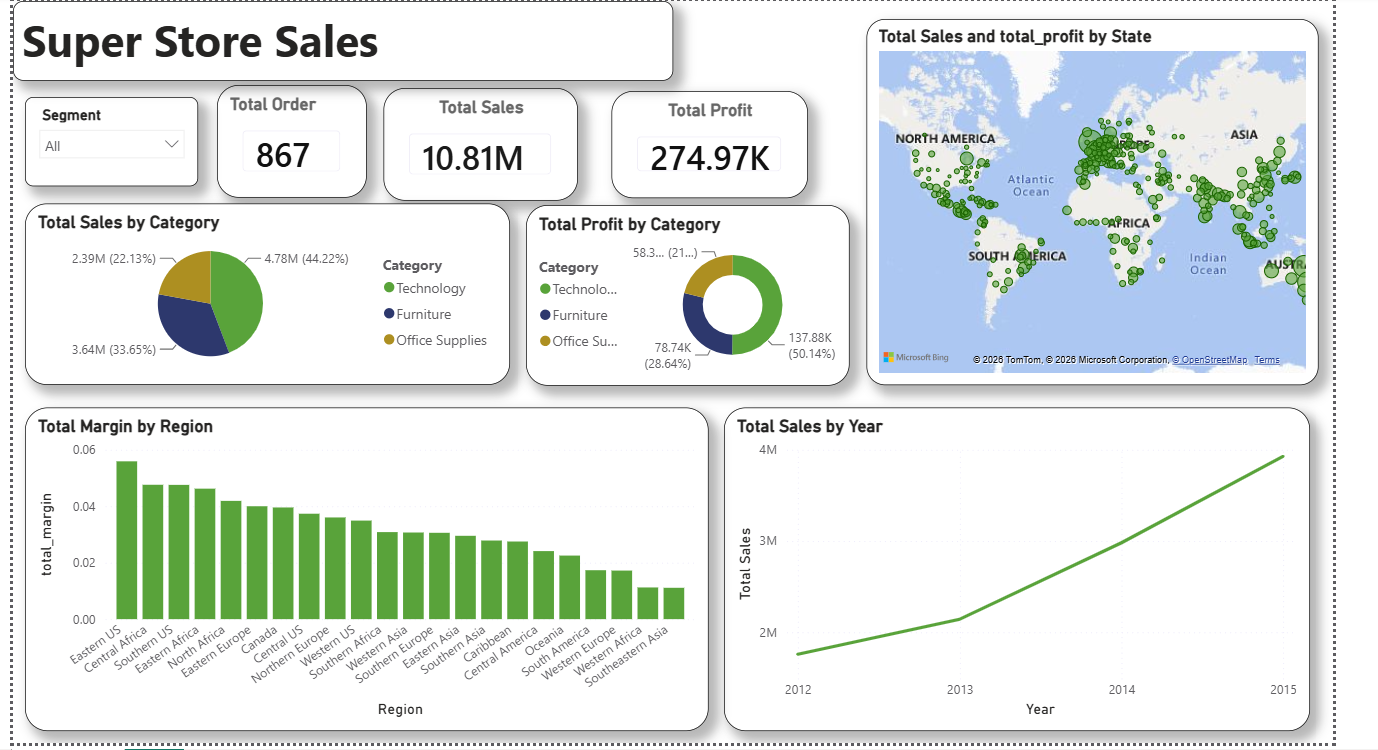

This screenshot's page, from the dashboard's own definition file:
{"tool":"powerbi","page":{"name":"Page 1","canvas":[1280,720],"ordinal":0},"visuals":[{"type":"cardVisual","title":"Total Sales","fields":{"Data":["Superstore_Sales.Total Sales"]},"box":[359.1,85,189,109.6],"z":0},{"type":"cardVisual","title":"Total Order","fields":{"Data":["Superstore_Sales.total_order"]},"box":[198.4,81.3,145.5,109.6],"z":1000},{"type":"cardVisual","title":"Total Profit","fields":{"Data":["Superstore_Sales.total_profit"]},"box":[580.2,86.9,190.9,103.9],"z":2000},{"type":"pieChart","fields":{"Category":["Superstore_Sales.Category"],"Y":["Superstore_Sales.Total Sales"]},"box":[11.3,196.5,470.6,175.7],"z":3000},{"type":"lineChart","fields":{"Category":["Superstore_Sales.Order Date.Variation.Date Hierarchy.Year","Superstore_Sales.Order Date.Variation.Date Hierarchy.Quarter","Superstore_Sales.Order Date.Variation.Date Hierarchy.Month","Superstore_Sales.Order Date.Variation.Date Hierarchy.Day"],"Y":["Superstore_Sales.Total Sales"]},"box":[689.8,395,568.8,313.7],"z":4000},{"type":"map","fields":{"Category":["Superstore_Sales.State"],"Size":["Superstore_Sales.Total Sales"]},"box":[827.7,17,438.4,355.3],"z":5000},{"type":"slicer","fields":{"Values":["Superstore_Sales.Segment"]},"box":[11.3,92.6,168.2,86.9],"z":6000},{"type":"textbox","box":[0,0,640.6,77.5],"z":7000},{"type":"columnChart","title":"Total Margin by Region","fields":{"Category":["Superstore_Sales.Region"],"Y":["Superstore_Sales.total_margin"]},"box":[11.3,395,663.3,313.7],"z":8000},{"type":"donutChart","title":"Total Profit by Category","fields":{"Y":["Superstore_Sales.total_profit"],"Category":["Superstore_Sales.Category"]},"box":[498,198,314,175],"z":9000}]}

Visuals, with their boxes in screenshot pixels (x1, y1, x2, y2):
"Total Sales" cardVisual: bbox=(380, 84, 574, 196)
"Total Order" cardVisual: bbox=(215, 80, 364, 193)
"Total Profit" cardVisual: bbox=(607, 86, 803, 192)
pieChart - Superstore_Sales.Category x Superstore_Sales.Total Sales: bbox=(22, 198, 506, 379)
lineChart - Superstore_Sales.Order Date.Variation.Date Hierarchy.Year x Superstore_Sales.Order Date.Variation.Date Hierarchy.Quarter: bbox=(719, 402, 1304, 724)
map - Superstore_Sales.State x Superstore_Sales.Total Sales: bbox=(861, 14, 1311, 379)
slicer - Superstore_Sales.Segment: bbox=(22, 92, 195, 181)
textbox: bbox=(11, 0, 669, 76)
"Total Margin by Region" columnChart: bbox=(22, 402, 704, 724)
"Total Profit by Category" donutChart: bbox=(522, 200, 845, 380)
